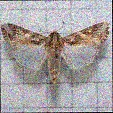Spodoptera litura: (0, 15, 109, 85)
